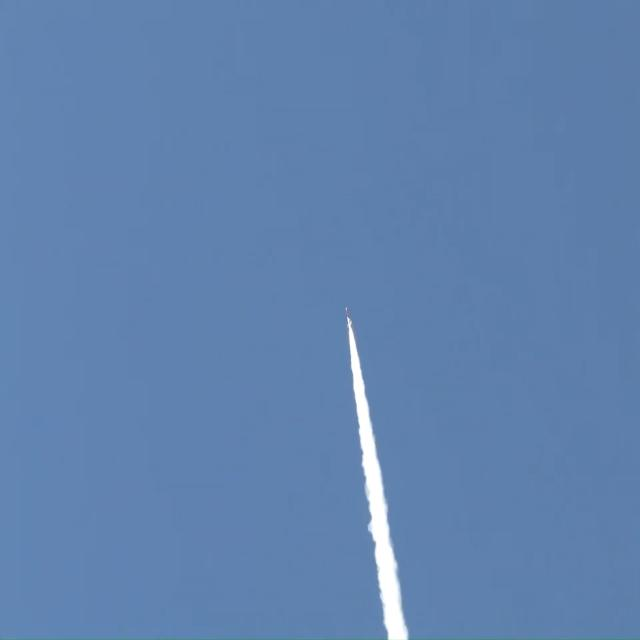Rocket: (345, 306, 352, 328)
